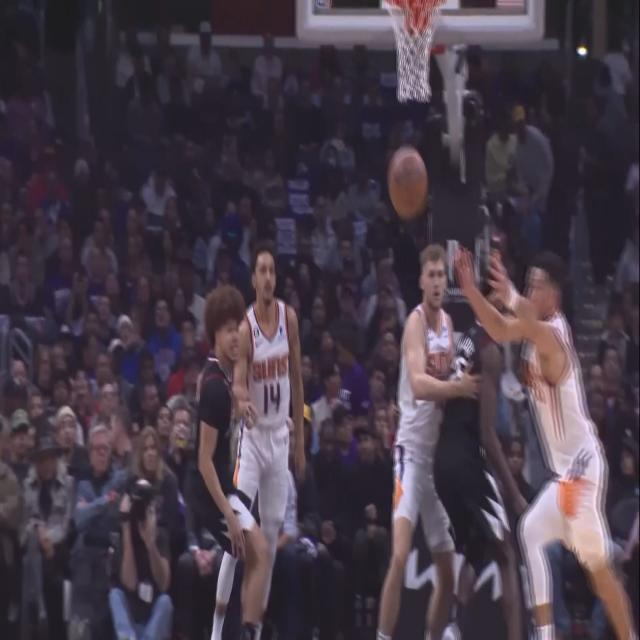Ball: (386, 146, 429, 219)
Hoop: (381, 0, 447, 104)
Player: (452, 242, 634, 640), (376, 243, 482, 640), (205, 238, 307, 640), (430, 258, 530, 640), (188, 283, 272, 640)
